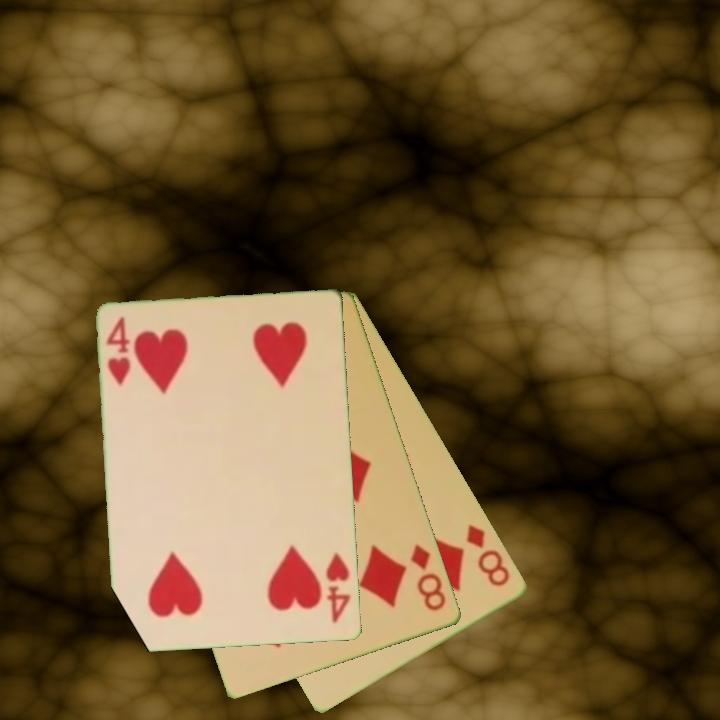4h: (103, 313, 135, 389), (323, 549, 354, 627)
8d: (463, 521, 514, 590), (407, 541, 450, 614)
